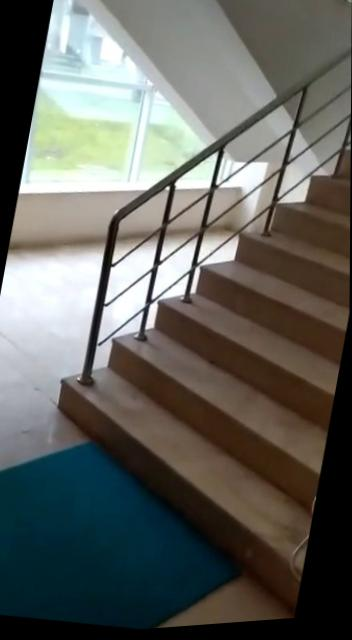Bench: (14, 78, 351, 639)
